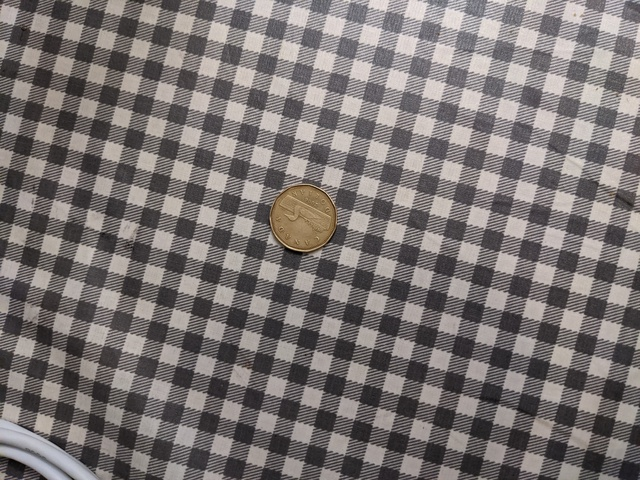loonie: (265, 181, 342, 259)
